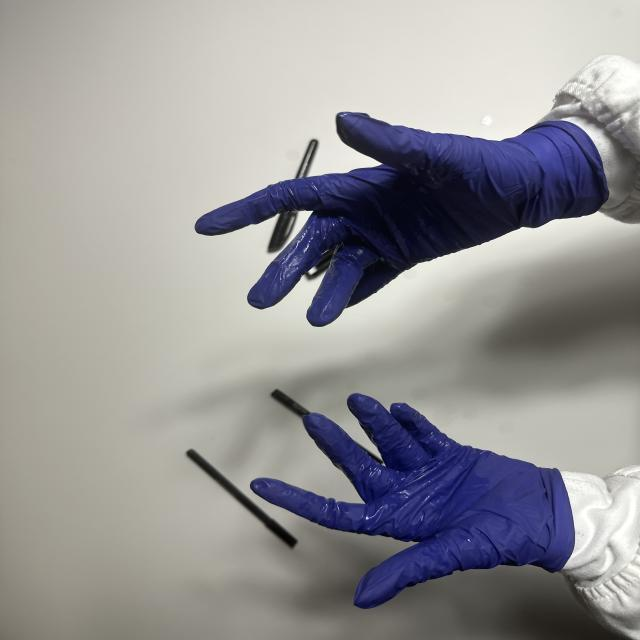gloves_contaminated: (195, 113, 608, 326), (251, 394, 575, 608)
